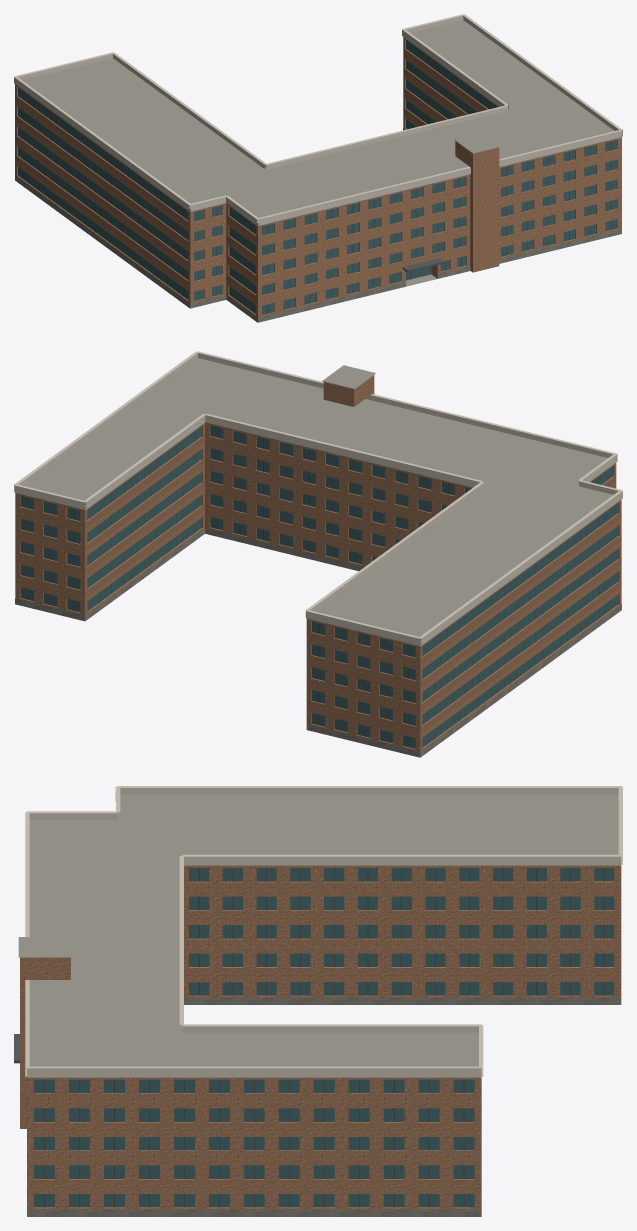
3 renders of one model, top to bottom at view 1: azimuth 30°, elevation 25°; view 2: azimuth 150°, elevation 25°; view 3: azimuth 270°, elevation 25°, orthographic. The views are drawn at different scales.
Visible parts, largest first — view 1: swict__wall, swict__roof, swict__glass, swict__trim, swict__wall2, swict__base, swict__frame; view 2: swict__roof, swict__wall, swict__glass, swict__trim, swict__wall2, swict__base, swict__frame; view 3: swict__wall, swict__roof, swict__glass, swict__trim, swict__base, swict__frame.
Boxes of the visible parts, x1,y1,x2,y2 form: swict__wall: [15, 37, 621, 322]; swict__roof: [22, 20, 614, 286]; swict__glass: [18, 40, 616, 314]; swict__trim: [14, 14, 622, 225]; swict__wall2: [15, 48, 487, 302]; swict__base: [15, 128, 621, 322]; swict__frame: [23, 44, 611, 313]; swict__roof: [23, 358, 613, 643]; swict__wall: [15, 375, 621, 757]; swict__glass: [20, 425, 618, 748]; swict__trim: [14, 351, 622, 645]; swict__wall2: [85, 435, 621, 734]; swict__base: [15, 528, 621, 757]; swict__frame: [27, 427, 606, 747]; swict__wall: [20, 865, 621, 1209]; swict__roof: [18, 794, 618, 1066]; swict__glass: [34, 868, 614, 1207]; swict__trim: [18, 786, 622, 1077]; swict__base: [27, 998, 621, 1216]; swict__frame: [44, 868, 604, 1207].
Bounding box in the file's own units: 76.39 × 21.82 × 69.61.
Materials: 9 (2 with a texture image).
